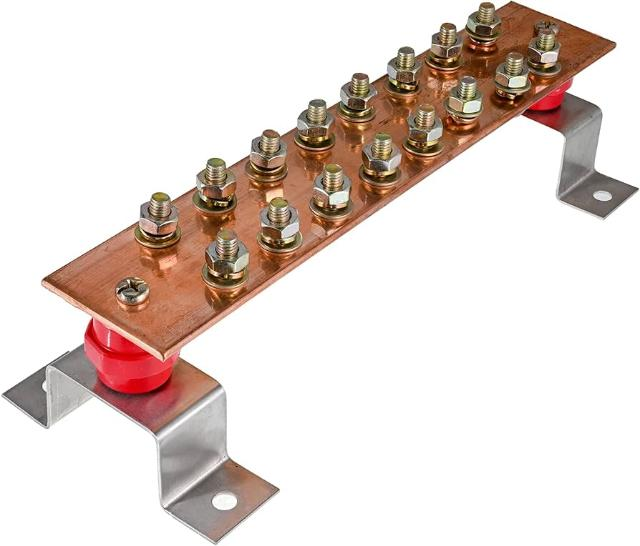busbar: (2, 1, 636, 543)
